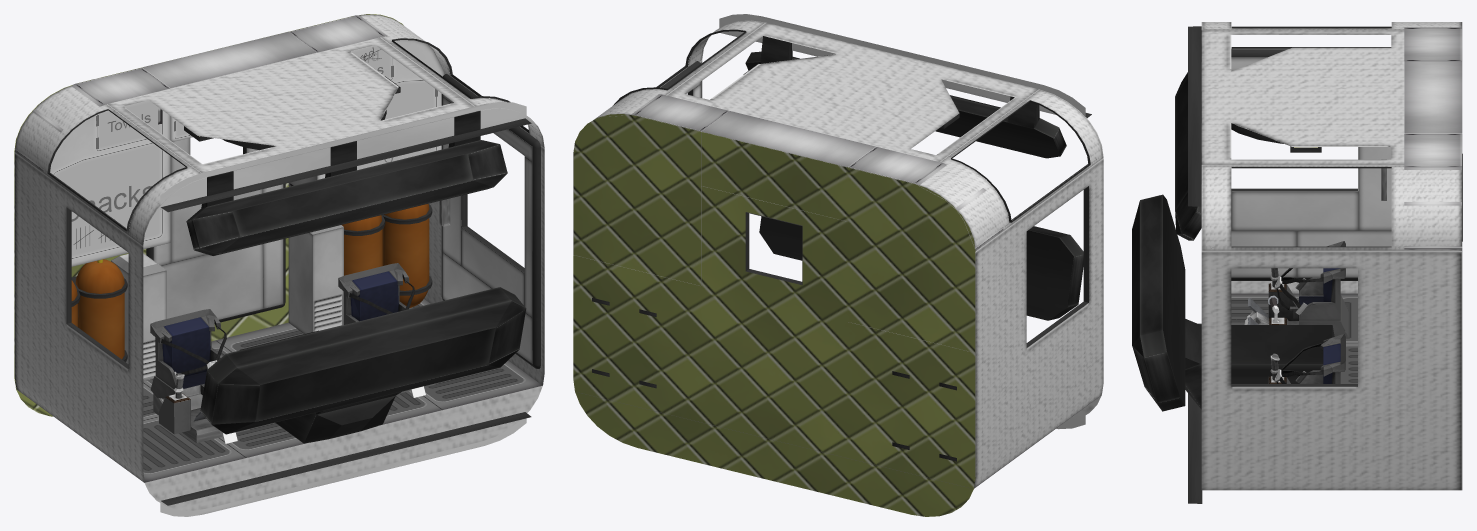
File: BuffaloCabSpace.FBX
3 views of the same model, side by side, from view 1: azimuth 30°, elevation 25°; view 2: azimuth 150°, elevation 25°; view 3: azimuth 270°, elevation 25° (orthographic).
Parts seen in each view (by area): view 1: InteriorLiner, Dashboard, Floor, TopPanel, Locker001, Door002, BackDoor, CabFirewall, Locker002, HVAC002, Seat002, TopLocker (+17 smaller); view 2: Firewall, InteriorLiner, Dashboard, TopLocker, CabFirewall, TopPanel, Locker001, Locker002, Door001, Box001, Box004, Box002 (+2 smaller); view 3: InteriorLiner, Door001, Dashboard, Center Console, TopLocker, Seat002, Locker002, CabFrontBand001, TopPanel, Floor, Locker001, Seat003 (+4 smaller).
Boxes of the visible parts, x1,y1,x2,y2 form: InteriorLiner: (14,14,544,482); Dashboard: (200,287,526,434); Floor: (16,299,542,510); TopPanel: (186,140,507,255); Locker001: (15,67,170,266); Door002: (441,74,540,368); BackDoor: (146,138,285,322); CabFirewall: (160,101,526,516); Locker002: (288,15,444,186); HVAC002: (288,225,343,333); Seat002: (150,309,226,435); TopLocker: (142,32,316,141); Firewall: (573,114,975,516); InteriorLiner: (594,20,1103,487); Dashboard: (759,216,1083,320); TopLocker: (701,111,875,221); CabFirewall: (719,14,1085,429); TopPanel: (745,51,1066,158); Locker001: (848,146,1003,352); Locker002: (573,94,728,285); Door001: (1006,159,1096,348); Box001: (951,100,1090,222); Box004: (760,36,792,63); Box002: (613,29,746,105); InteriorLiner: (1201,22,1461,490); Door001: (1231,49,1391,280); Dashboard: (1132,194,1185,411); Center Console: (1185,319,1334,409); TopLocker: (1404,61,1462,133); Seat002: (1274,241,1348,338); Locker002: (1404,133,1462,352); CabFrontBand001: (1188,26,1201,206); TopPanel: (1175,72,1201,240); Floor: (1231,293,1462,489); Locker001: (1404,22,1462,61); Seat003: (1274,334,1345,383).
Size of the model in its own units: 1.55 by 1.25 by 1.08.
